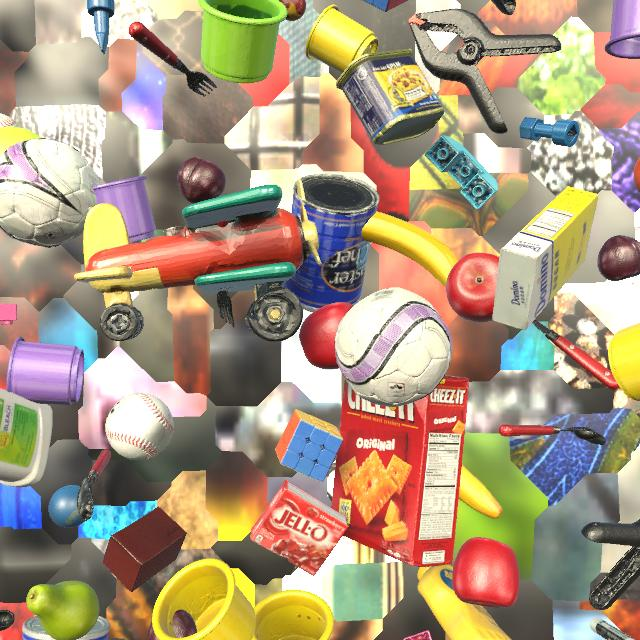ycb_002_master_chef_can: (282, 174, 380, 312), (22, 616, 111, 640)
ycb_003_cracker_box: (331, 375, 469, 567)
ycb_004_sugar_box: (492, 186, 598, 330)
ycb_006_mustard_bottle: (417, 564, 511, 640)
ycb_009_gelatin_box: (250, 480, 349, 576)
ycb_010_potted_meat_can: (336, 49, 444, 145)
ycb_011_banana: (389, 407, 503, 519), (362, 211, 458, 287)
ycb_013_apple: (452, 537, 520, 608), (446, 253, 499, 323), (299, 302, 354, 369)
ycb_016_pear: (26, 581, 99, 640)
ycb_017_orange: (633, 157, 640, 193)
ycb_018_plum: (177, 157, 226, 204), (597, 235, 640, 281), (147, 609, 197, 640)
